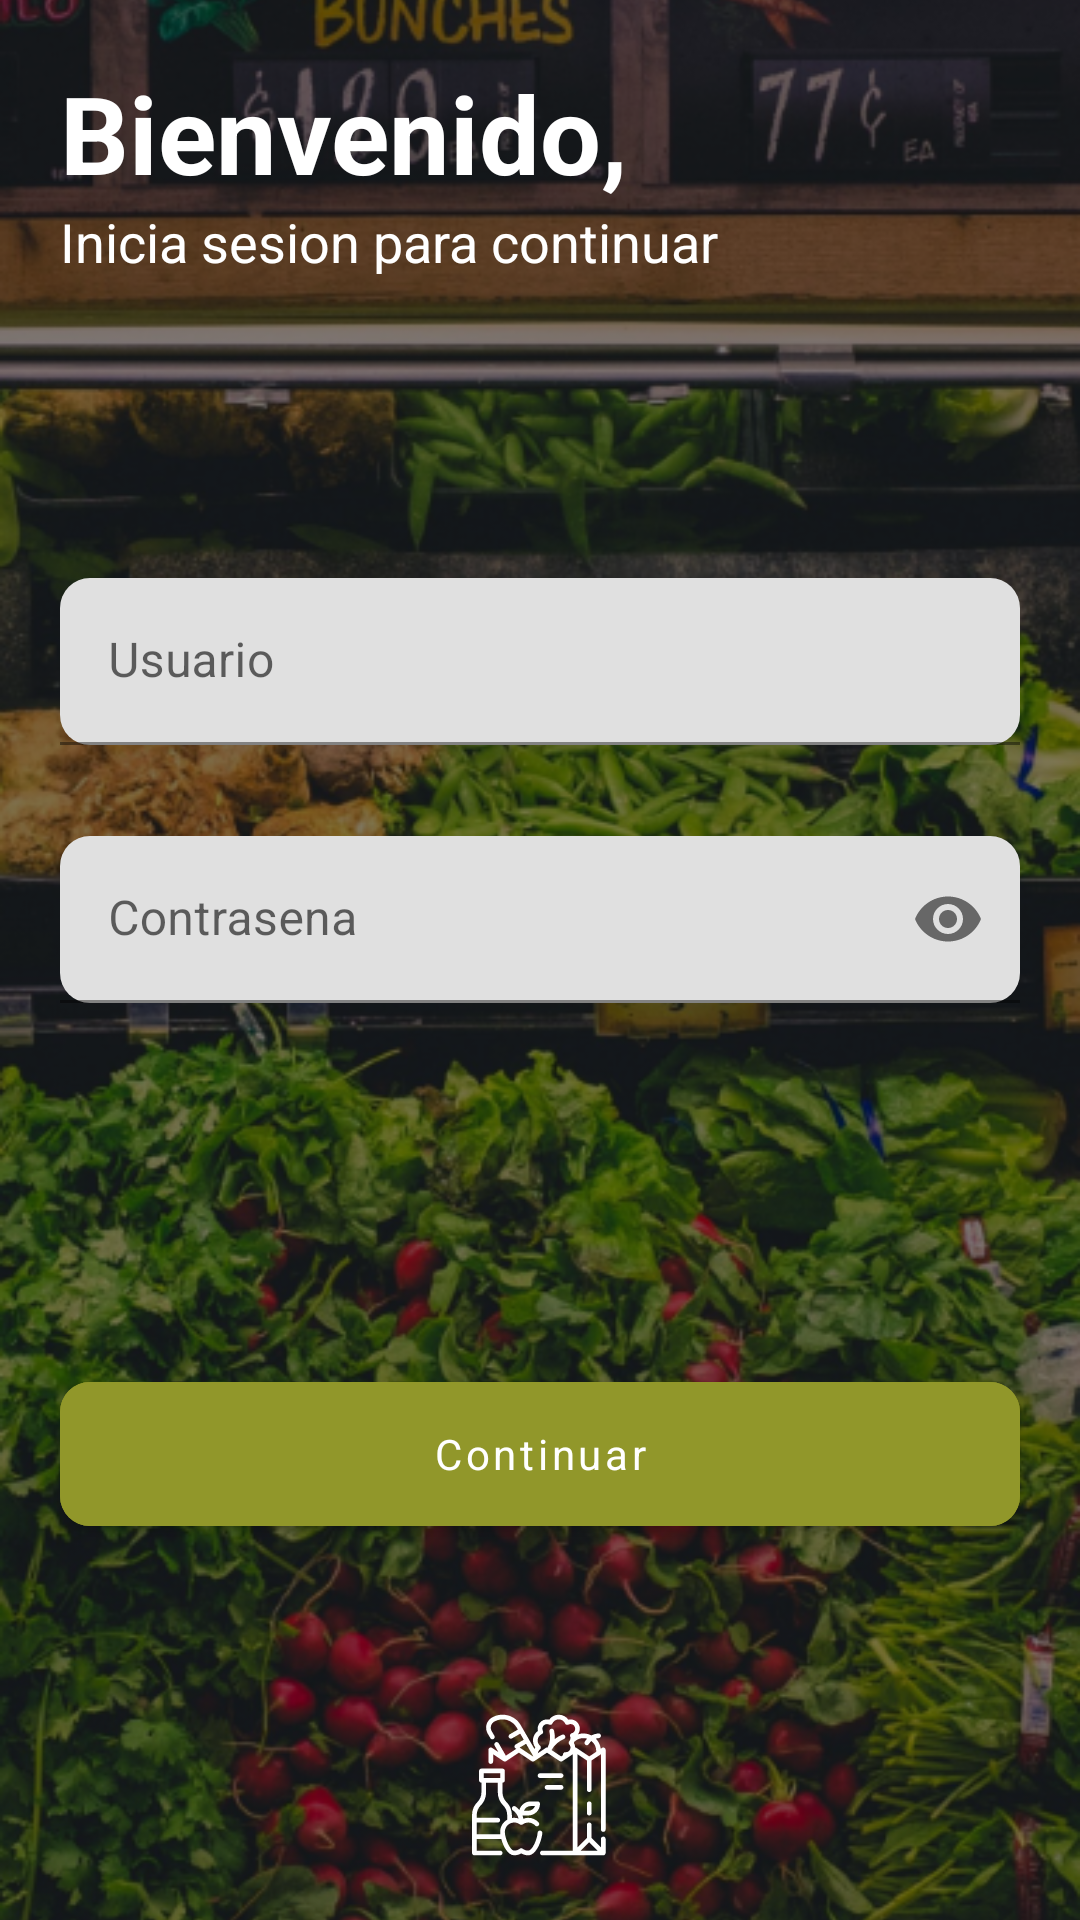

Where to tap for icons on this 1080 x 1920 app screen, as point (x, y):
grocery: point (540, 1785)
